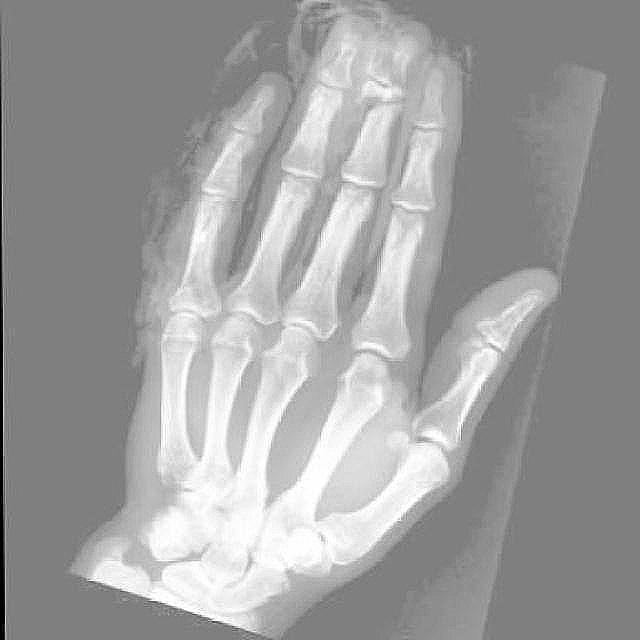bone: (362, 28, 418, 91)
